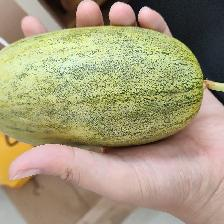gua: (8, 45, 215, 135)
